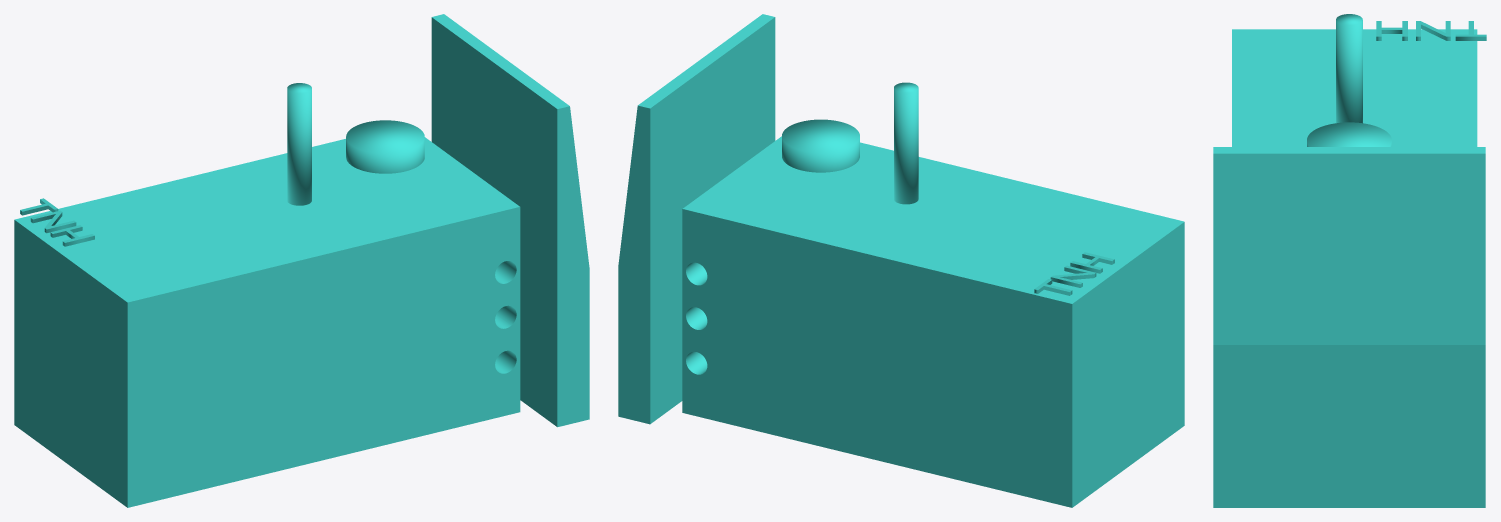
File: openscad_bird-house-customizer.glb
The picture shows the model from 3 angles, left to right: view 1: azimuth 30°, elevation 25°; view 2: azimuth 150°, elevation 25°; view 3: azimuth 270°, elevation 25°; orthographic projection. The views are drawn at different scales.
Parts seen in each view (by area): view 1: object; view 2: object; view 3: object.
Part boxes in pixels (bbox=[...]): object: bbox=[14, 14, 589, 507]; object: bbox=[618, 14, 1184, 507]; object: bbox=[1213, 14, 1486, 507].
Bounding box in the file's own units: 211 × 152 × 102.
